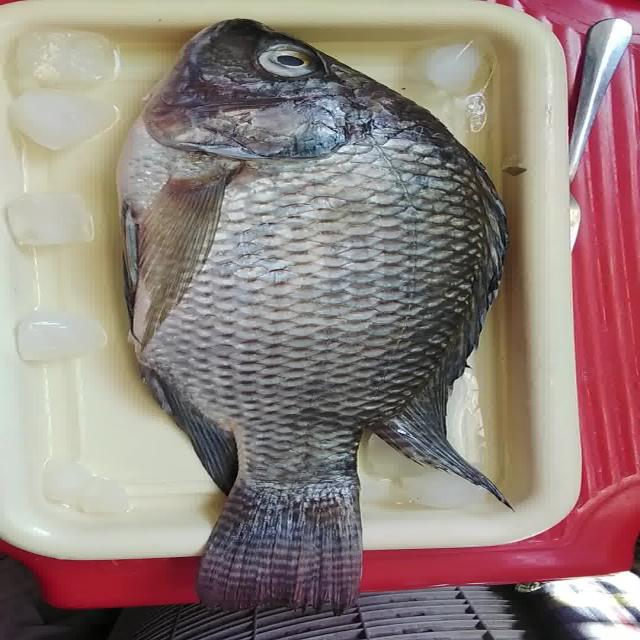Fresh: (126, 99, 530, 601), (247, 30, 340, 90)
